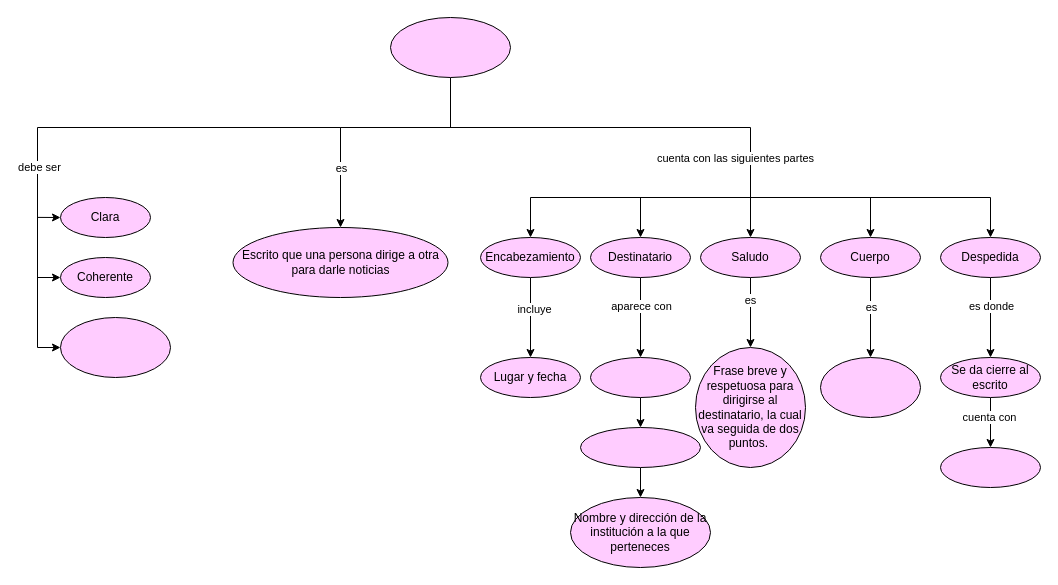
This 1058x585 diagram has some shape labels left out. Each missing label, with the box of its shape:
Con vocabulario sencillo y variado: (60, 316, 170, 378)
Grado Profesional o académico: (580, 426, 700, 468)
La Carta: (390, 16, 510, 78)
La firma: (940, 446, 1040, 488)
Nombre completo: (590, 356, 690, 398)
Parte medular del escrito: (820, 356, 920, 418)
